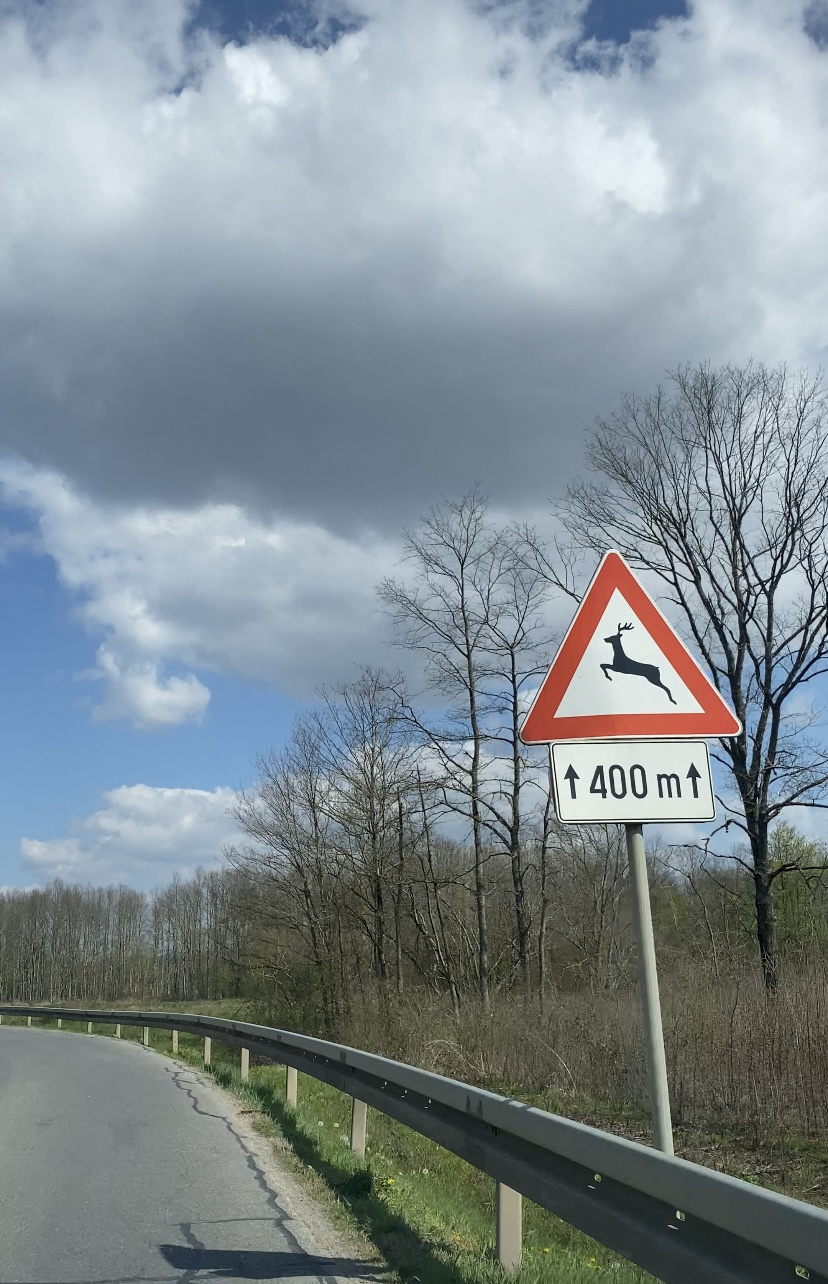Divljač na cesti: (518, 549, 744, 746)
